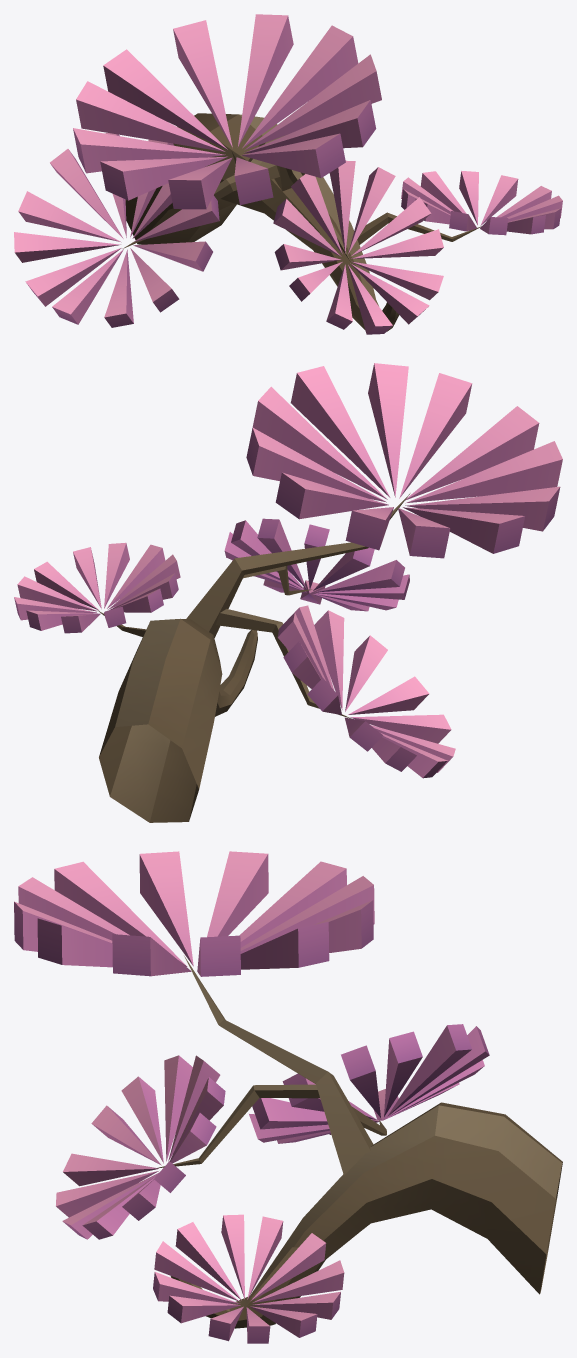
The model's file is branch_pink_1.glb.
3 renders of one model, top to bottom at view 1: azimuth 30°, elevation 25°; view 2: azimuth 150°, elevation 25°; view 3: azimuth 270°, elevation 25°, orthographic. The views are drawn at different scales.
Parts seen in each view (by area): view 1: branch_pink_1; view 2: branch_pink_1; view 3: branch_pink_1.
Part boxes in pixels (x1,y1,x2,y2): branch_pink_1: [14, 14, 562, 334]; branch_pink_1: [14, 363, 562, 822]; branch_pink_1: [14, 851, 562, 1343].
Size of the model in its own units: 2.87 by 1.79 by 2.41.
Materials: 1 (1 with a texture image).
